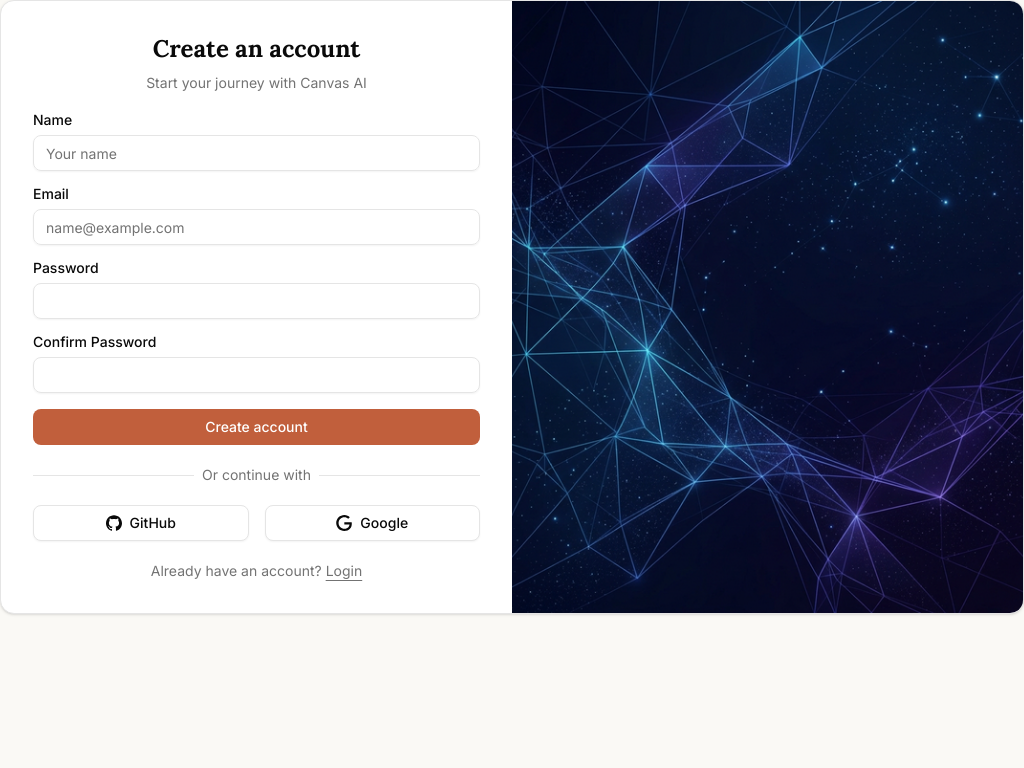
Test: SignupForm › shows error when passwords don't match
Step 1. Type "Test User" into the field labelled "Name" → (256, 153), box top-left (33, 135), bottom-right (480, 171)
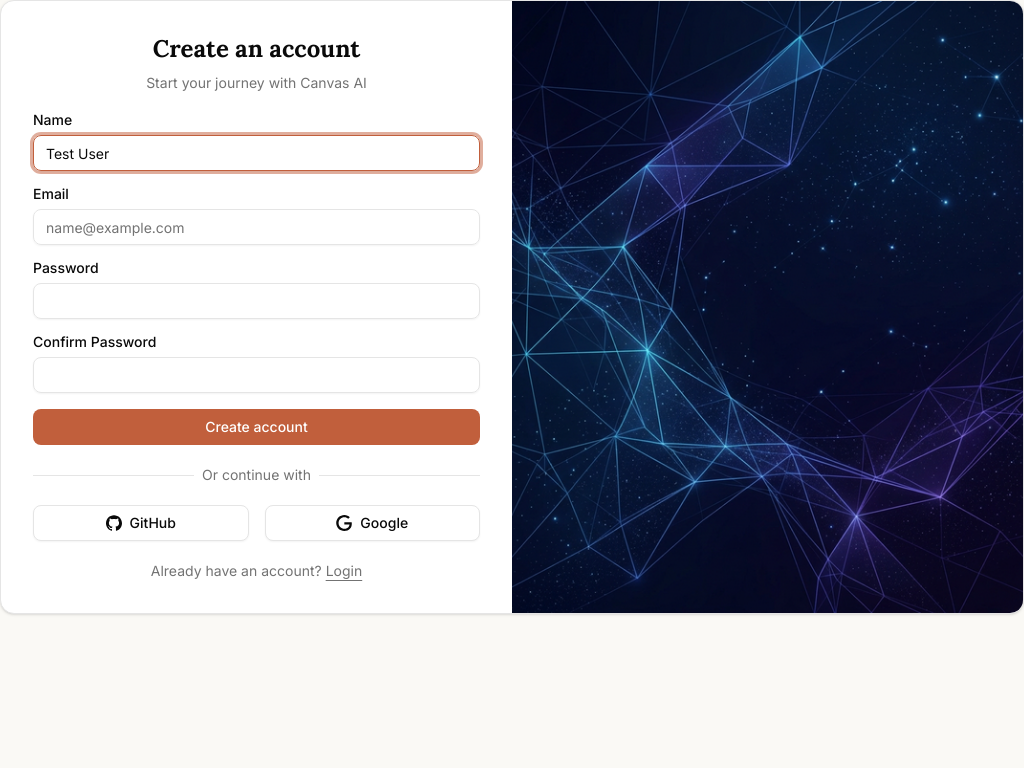
Step 2. Type "test@example.com" into the field labelled "Email" → (256, 227), box top-left (33, 209), bottom-right (480, 245)
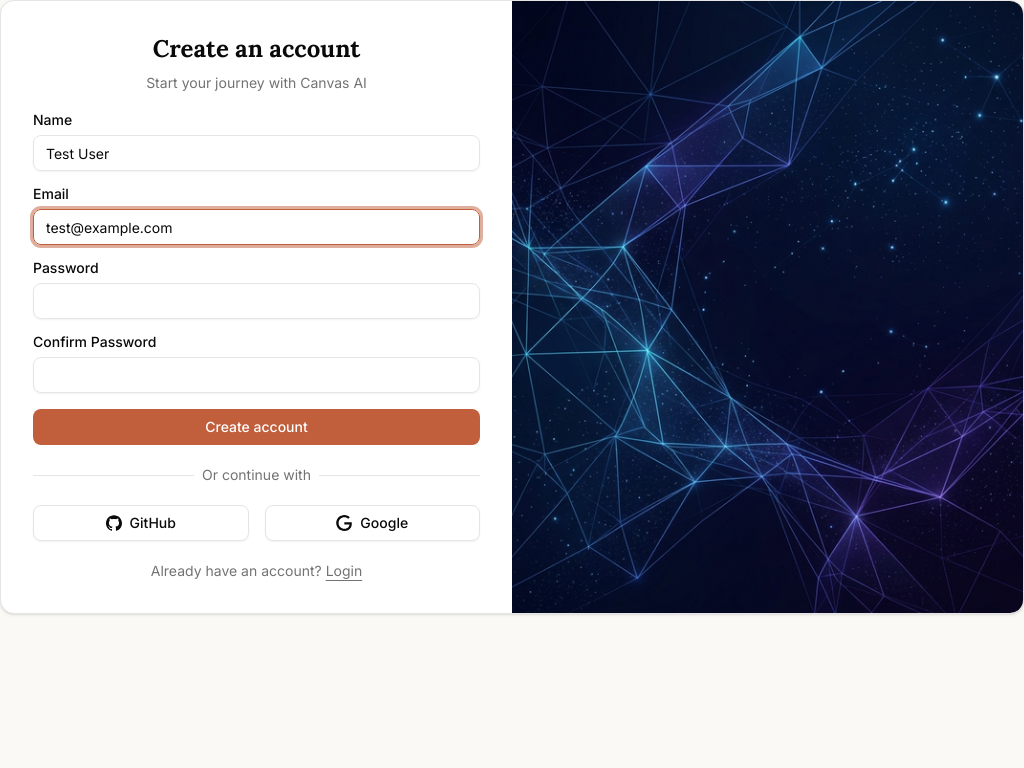
Step 3. Type "MySecure#Pass1" into the password field labelled "Password" → (256, 301), box top-left (33, 283), bottom-right (480, 319)
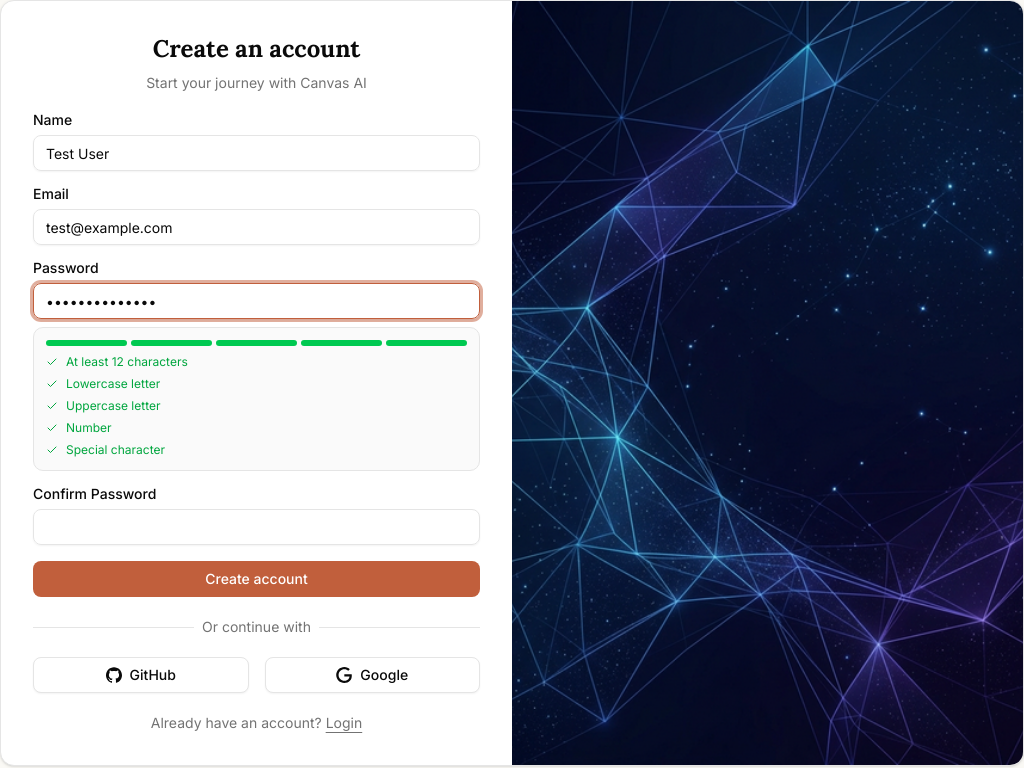
Step 4. Type "DifferentPass1!" into the password field labelled "Confirm Password" → (256, 527), box top-left (33, 509), bottom-right (480, 545)
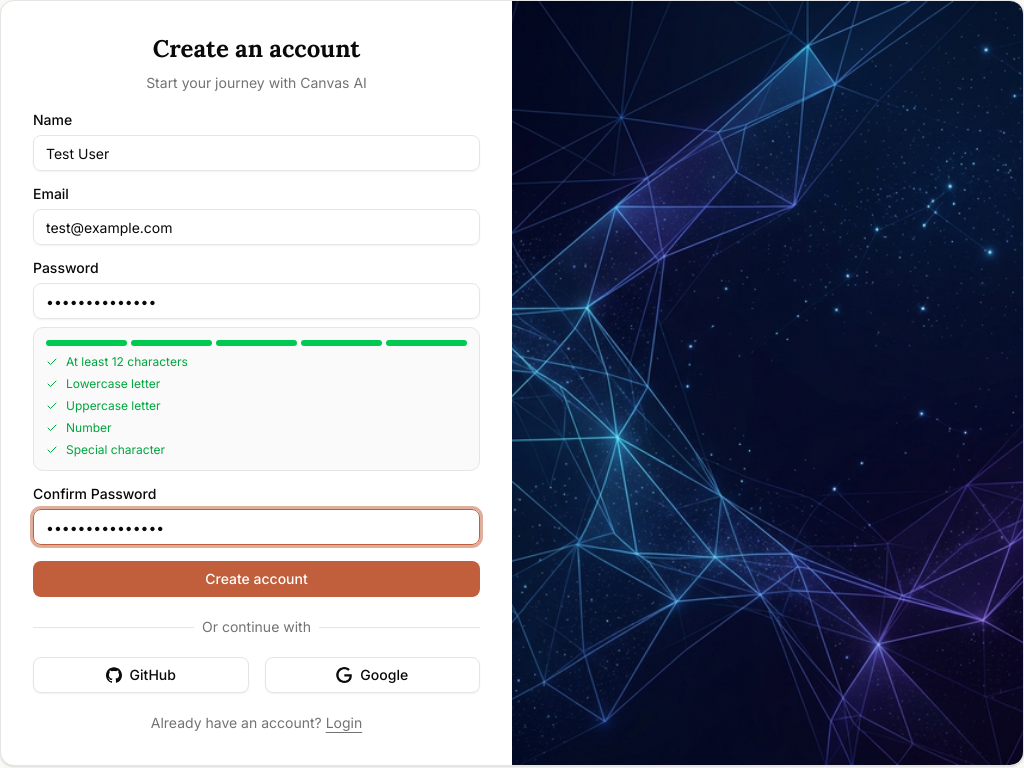
Step 5. Click the button "Create account" → (256, 579), box top-left (33, 561), bottom-right (480, 597)
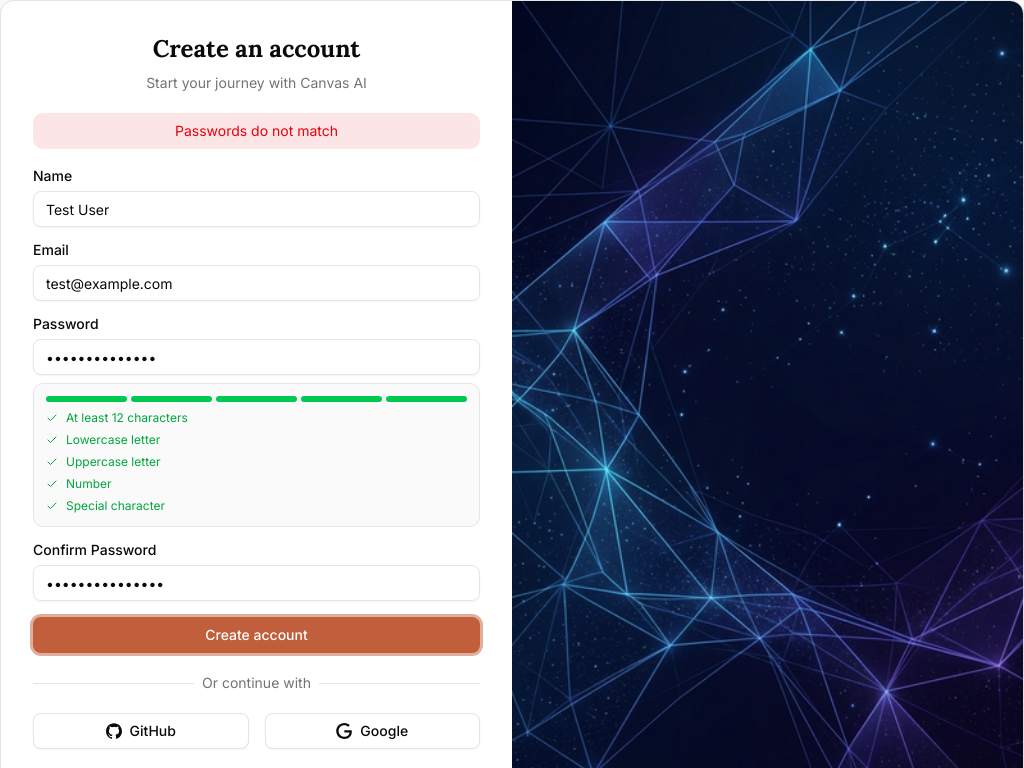
expect the text "Passwords do not match" is shown: met, box top-left (33, 113), bottom-right (480, 149)
